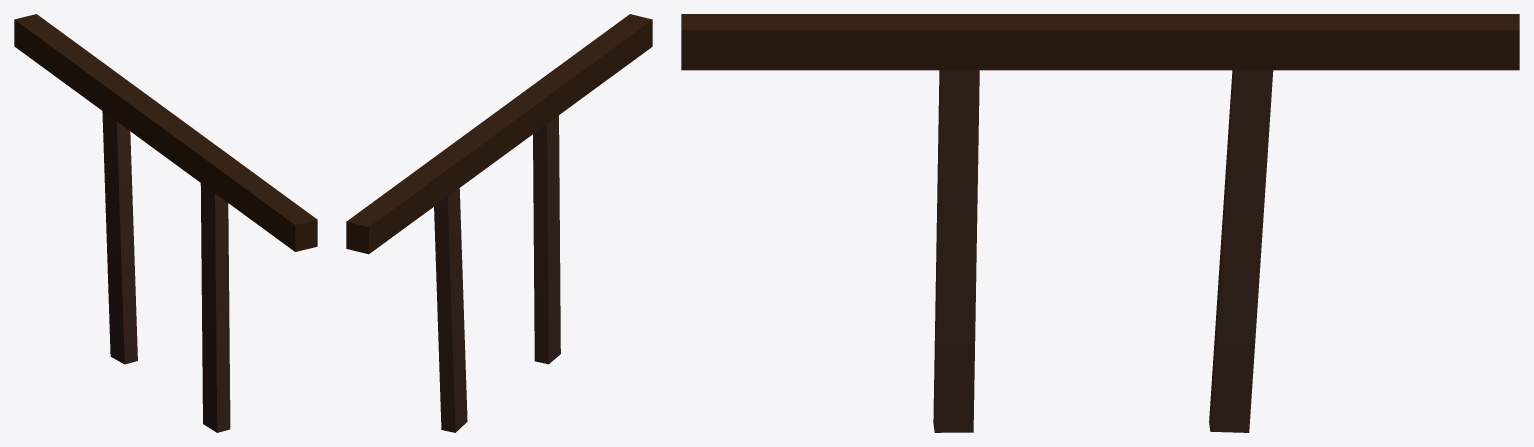
Rendered from Deck Railing.glb.
3 renders of one model, left to right at view 1: azimuth 30°, elevation 25°; view 2: azimuth 150°, elevation 25°; view 3: azimuth 270°, elevation 25°, orthographic. The views are drawn at different scales.
Parts seen in each view (by area): view 1: Deck Railing; view 2: Deck Railing; view 3: Deck Railing.
Part boxes in pixels (left/top/right/bottom): Deck Railing: left=14, top=14, right=317, bottom=432; Deck Railing: left=346, top=14, right=652, bottom=432; Deck Railing: left=681, top=14, right=1519, bottom=432.
Size of what is drawn, in the model's own units: 0.0873 by 1.01 by 1.89.
1 material, 1 textured.
